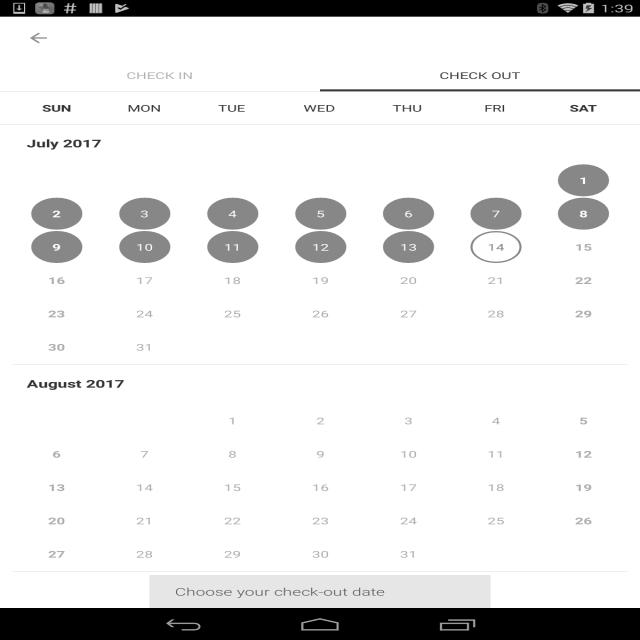ImageButton: (9, 17, 68, 59)
ImageView: (544, 164, 623, 197), (17, 198, 97, 230), (105, 198, 185, 230), (193, 198, 273, 230), (281, 198, 361, 230), (456, 198, 536, 230), (17, 231, 97, 263), (105, 231, 185, 263), (193, 231, 273, 263), (281, 231, 361, 263), (456, 231, 536, 263), (369, 198, 448, 230), (544, 198, 623, 230), (369, 231, 448, 263)
TextView: (162, 575, 478, 608), (100, 92, 188, 124), (275, 92, 363, 124), (363, 92, 451, 124), (451, 92, 539, 124), (539, 92, 627, 124), (13, 92, 100, 124), (188, 92, 275, 124), (544, 164, 623, 197), (17, 198, 97, 230), (105, 198, 185, 230), (193, 198, 273, 230), (281, 198, 361, 230), (456, 198, 536, 230), (17, 231, 97, 263), (105, 231, 185, 263), (193, 231, 273, 263), (281, 231, 361, 263), (456, 231, 536, 263), (17, 264, 97, 296), (105, 264, 185, 296), (193, 264, 273, 296), (281, 264, 361, 296), (456, 264, 536, 296), (17, 298, 97, 330), (105, 298, 185, 330), (193, 298, 273, 330), (281, 298, 361, 330), (456, 298, 536, 330), (17, 331, 97, 363), (105, 331, 185, 363), (193, 404, 273, 436), (281, 404, 361, 436), (456, 404, 536, 436), (17, 438, 97, 470), (105, 438, 185, 470), (193, 438, 273, 470), (281, 438, 361, 470), (456, 438, 536, 470), (17, 472, 97, 504), (105, 472, 185, 504), (193, 472, 273, 504), (281, 472, 361, 504), (456, 472, 536, 504), (17, 504, 97, 536), (105, 504, 185, 536), (193, 504, 273, 536), (281, 504, 361, 536), (456, 504, 536, 536), (17, 538, 97, 570), (105, 538, 185, 570), (193, 538, 273, 570), (281, 538, 361, 570), (369, 198, 448, 230), (544, 198, 623, 230), (369, 231, 448, 263), (544, 231, 623, 263), (369, 264, 448, 296), (544, 264, 623, 296), (369, 298, 448, 330), (544, 298, 623, 330), (369, 404, 448, 436), (544, 404, 623, 436), (369, 438, 448, 470), (544, 438, 623, 470), (369, 472, 448, 504), (544, 472, 623, 504), (369, 504, 448, 536), (544, 504, 623, 536), (369, 538, 448, 570), (440, 69, 520, 82), (126, 69, 193, 82)
